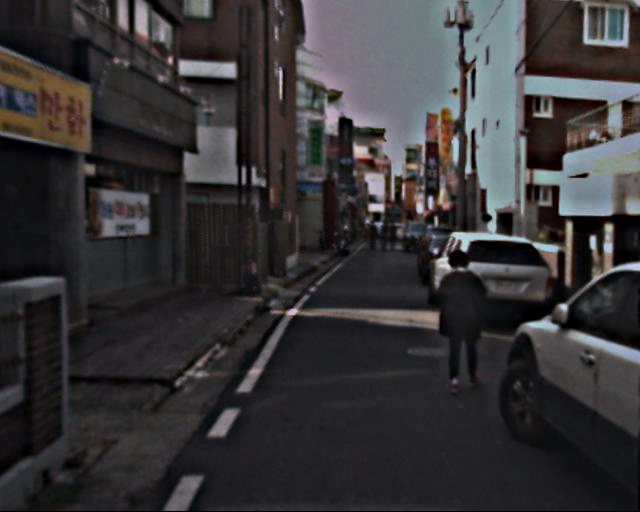person: (427, 246, 490, 392), (368, 219, 397, 251)
